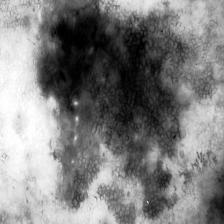Benign Marking or Mole: (38, 3, 206, 214)
